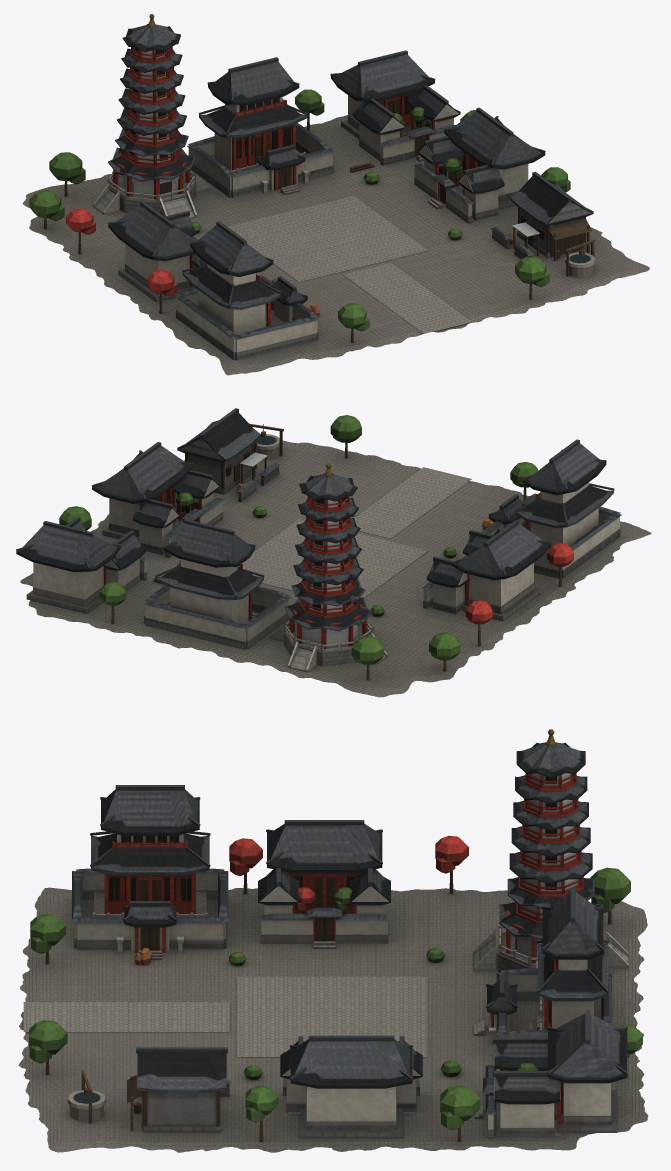
Rendered from kingdoms-town-small-a-sinic.glb.
3 renders of one model, top to bottom at view 1: azimuth 30°, elevation 25°; view 2: azimuth 150°, elevation 25°; view 3: azimuth 270°, elevation 25°, orthographic. The views are drawn at different scales.
Visible parts, largest first — view 1: LOD0; view 2: LOD0; view 3: LOD0.
Boxes of the visible parts, x1,y1,x2,y2 form: LOD0: (22, 14, 649, 375); LOD0: (16, 408, 651, 697); LOD0: (18, 729, 648, 1152).
Size of what is drawn, in the model's own units: 4.02 by 1.65 by 4.06.
3 materials, 3 textured.
